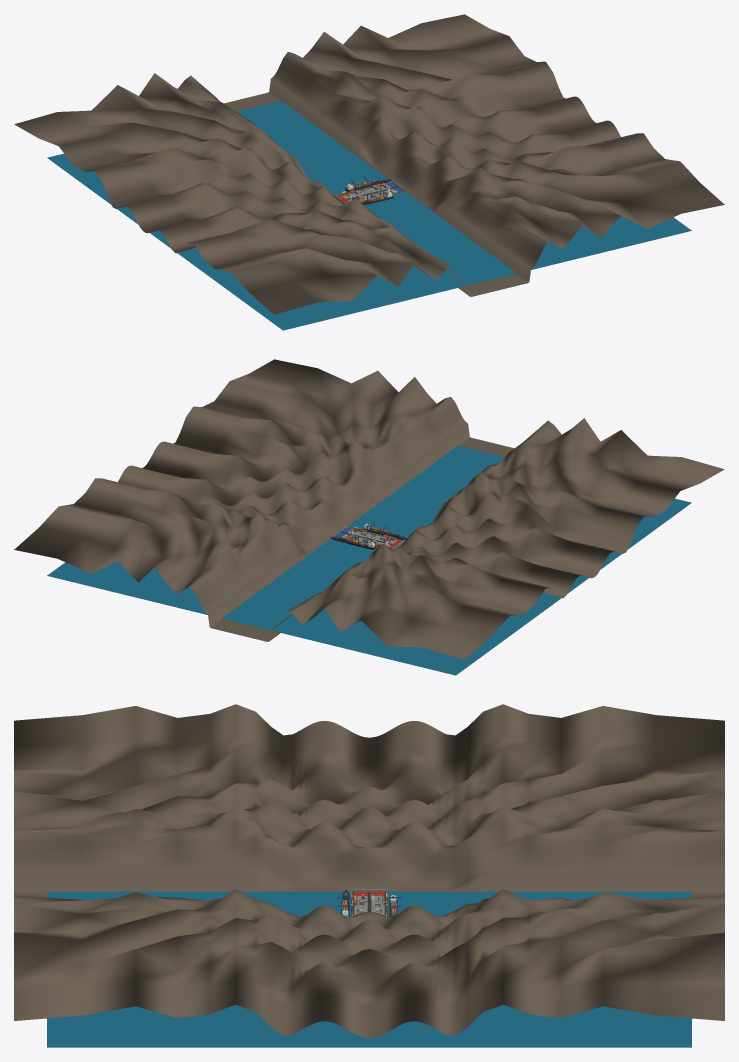
Rendered from Aden_Port.glb.
3 views of the same model, one above another, from view 1: azimuth 30°, elevation 25°; view 2: azimuth 150°, elevation 25°; view 3: azimuth 270°, elevation 25° (orthographic). The views are drawn at different scales.
Visible parts, largest first — view 1: Backdrop_Terrain, Sea; view 2: Backdrop_Terrain, Sea; view 3: Backdrop_Terrain, Sea, Ground.
Boxes of the visible parts, x1=… form: Backdrop_Terrain: x1=14, y1=14, x2=724, y2=314; Sea: x1=47, y1=100, x2=691, y2=330; Backdrop_Terrain: x1=14, y1=359, x2=724, y2=659; Sea: x1=47, y1=445, x2=691, y2=675; Backdrop_Terrain: x1=14, y1=704, x2=724, y2=1037; Sea: x1=47, y1=891, x2=691, y2=1047; Ground: x1=351, y1=892, x2=387, y2=915.
Size of the model in its own units: 1543 by 156 by 1543.
